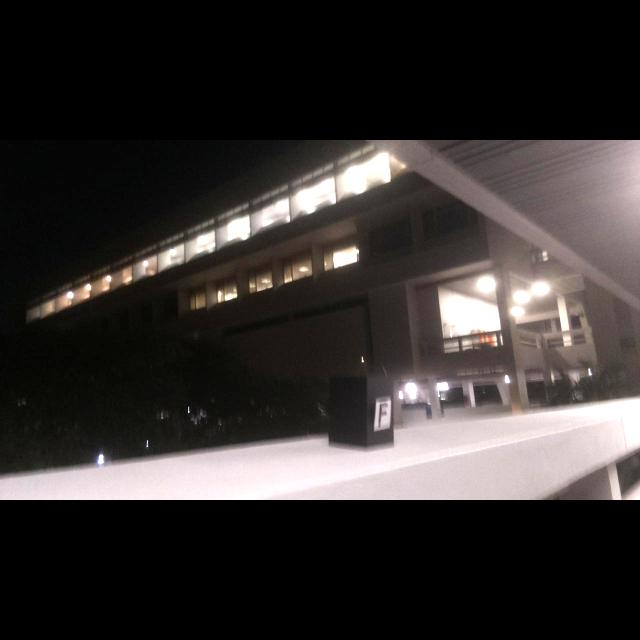F: (378, 403, 388, 428)
